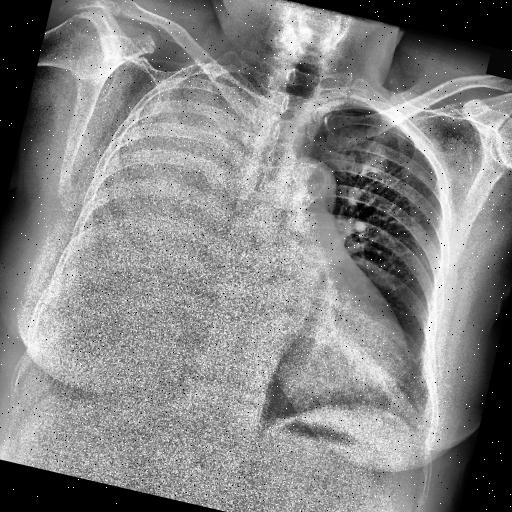0- Aortic enlargement: (274, 154, 341, 214), (276, 154, 340, 210)
1- Atelectasis: (40, 43, 271, 363)
10- Pleural effusion: (24, 38, 282, 382), (40, 33, 282, 360), (40, 43, 271, 363)
3- Cardiomegaly: (214, 258, 418, 391)
7- Lung Opacity: (40, 33, 282, 360)
9- Other lesion: (40, 43, 271, 363)
